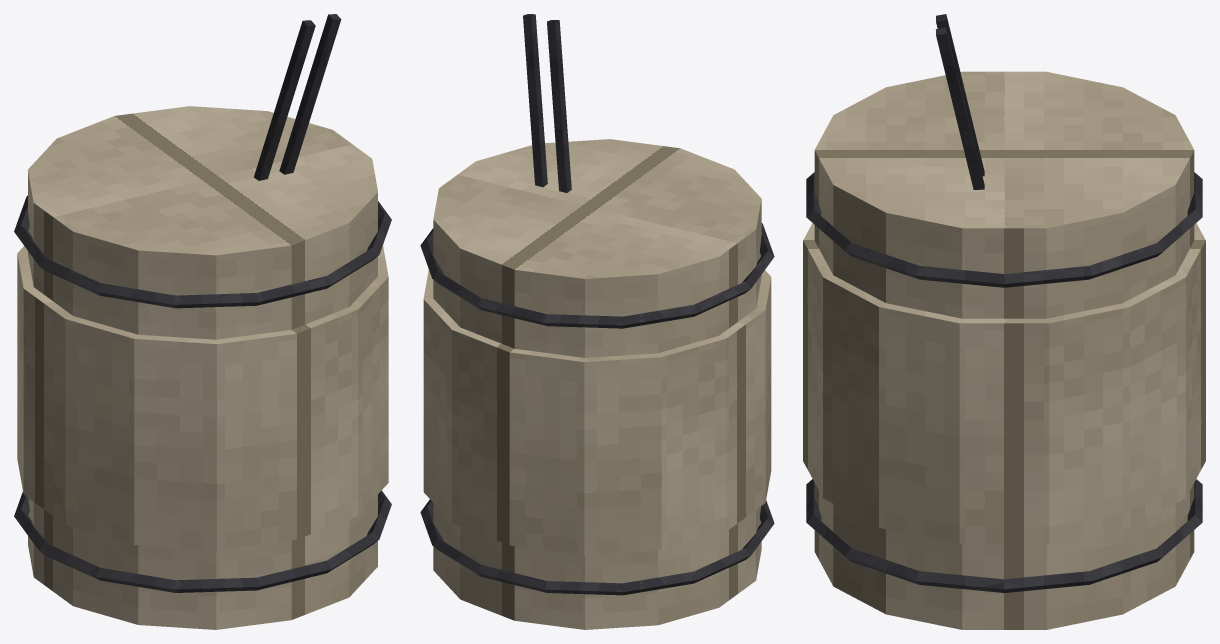
The model's file is quench_barrel.glb.
3 renders of one model, left to right at view 1: azimuth 30°, elevation 25°; view 2: azimuth 150°, elevation 25°; view 3: azimuth 270°, elevation 25°, orthographic. The views are drawn at different scales.
Parts seen in each view (by area): view 1: body; view 2: body; view 3: body.
Boxes of the visible parts, <box> form: body: <box>14,14,391,629</box>; body: <box>420,14,774,629</box>; body: <box>803,14,1205,629</box>.
Bounding box in the file's own units: 0.642 × 1 × 0.636.
Materials: 3 (2 with a texture image).
